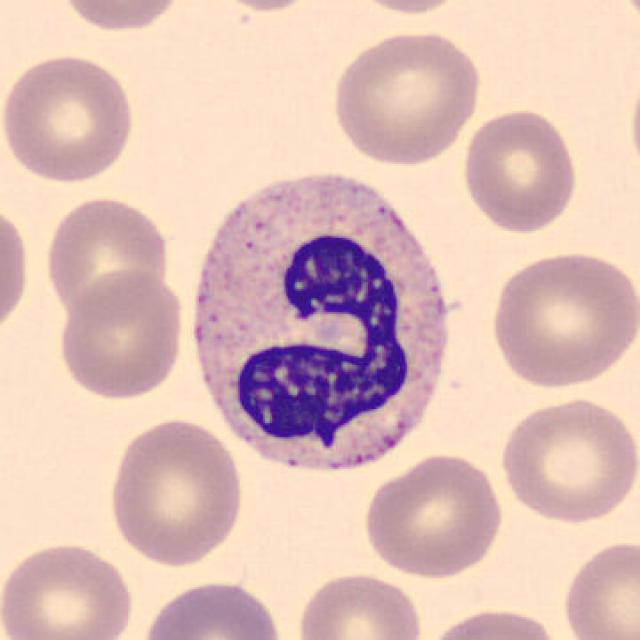Neutrophil: (178, 155, 464, 492)
RBC: (327, 24, 485, 168), (486, 245, 636, 391), (105, 414, 247, 568), (359, 450, 507, 580), (0, 49, 139, 185), (496, 394, 638, 526), (54, 268, 188, 402), (41, 194, 174, 323), (457, 104, 581, 236), (0, 536, 139, 640), (293, 567, 428, 640), (137, 576, 288, 640), (558, 536, 638, 640), (421, 604, 565, 640), (0, 198, 34, 342), (53, 0, 188, 35), (339, 0, 473, 18), (192, 0, 331, 14), (626, 60, 640, 196), (613, 0, 640, 39)
